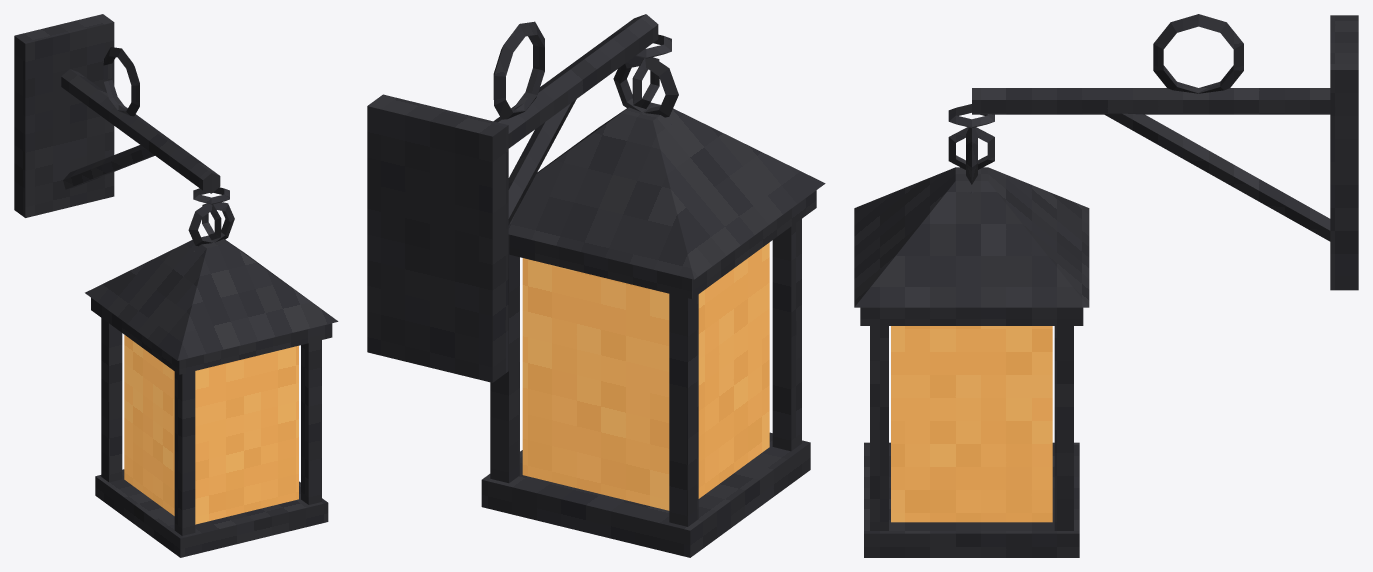
Rendered from lantern_wall.glb.
3 renders of one model, left to right at view 1: azimuth 30°, elevation 25°; view 2: azimuth 150°, elevation 25°; view 3: azimuth 270°, elevation 25°, orthographic. The views are drawn at different scales.
Parts seen in each view (by area): view 1: body; view 2: body; view 3: body.
Boxes of the visible parts, <box> form: body: <box>14,14,338,557</box>; body: <box>367,14,825,557</box>; body: <box>854,14,1358,557</box>.
Bounding box in the file's own units: 0.2902 × 0.679 × 0.6226.
Materials: 3 (2 with a texture image).
